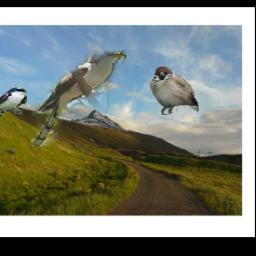Cuckoo: (31, 51, 126, 147)
Sparrow: (149, 66, 199, 116)
Swallow: (0, 86, 28, 122)
